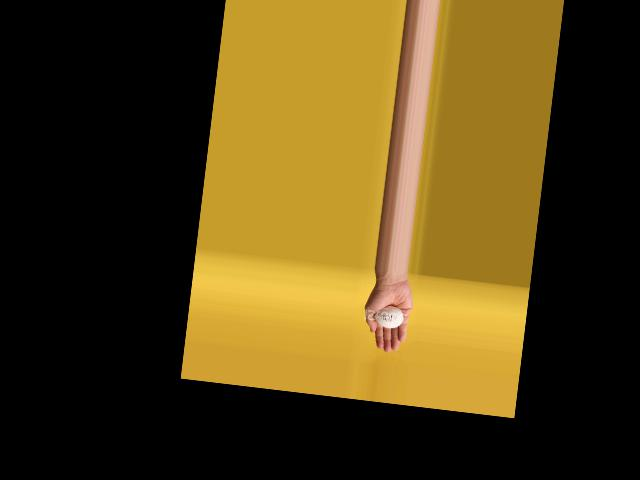egg: (373, 304, 404, 329)
